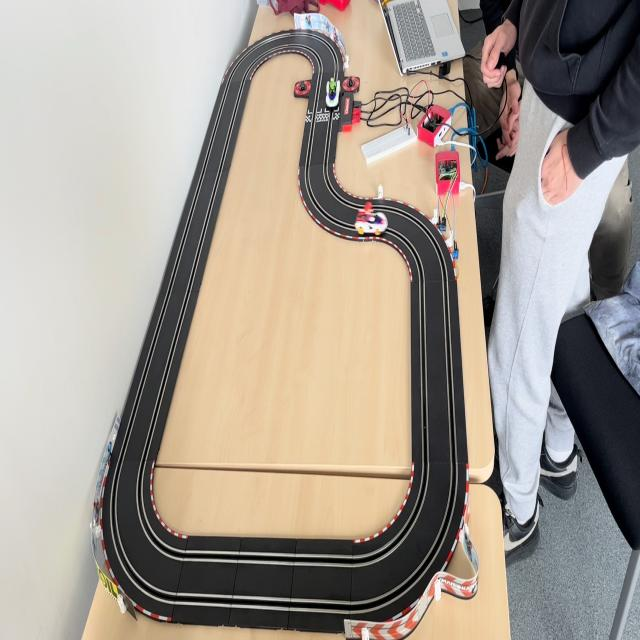mario: (354, 212, 390, 235)
yoshi: (325, 79, 339, 111)
